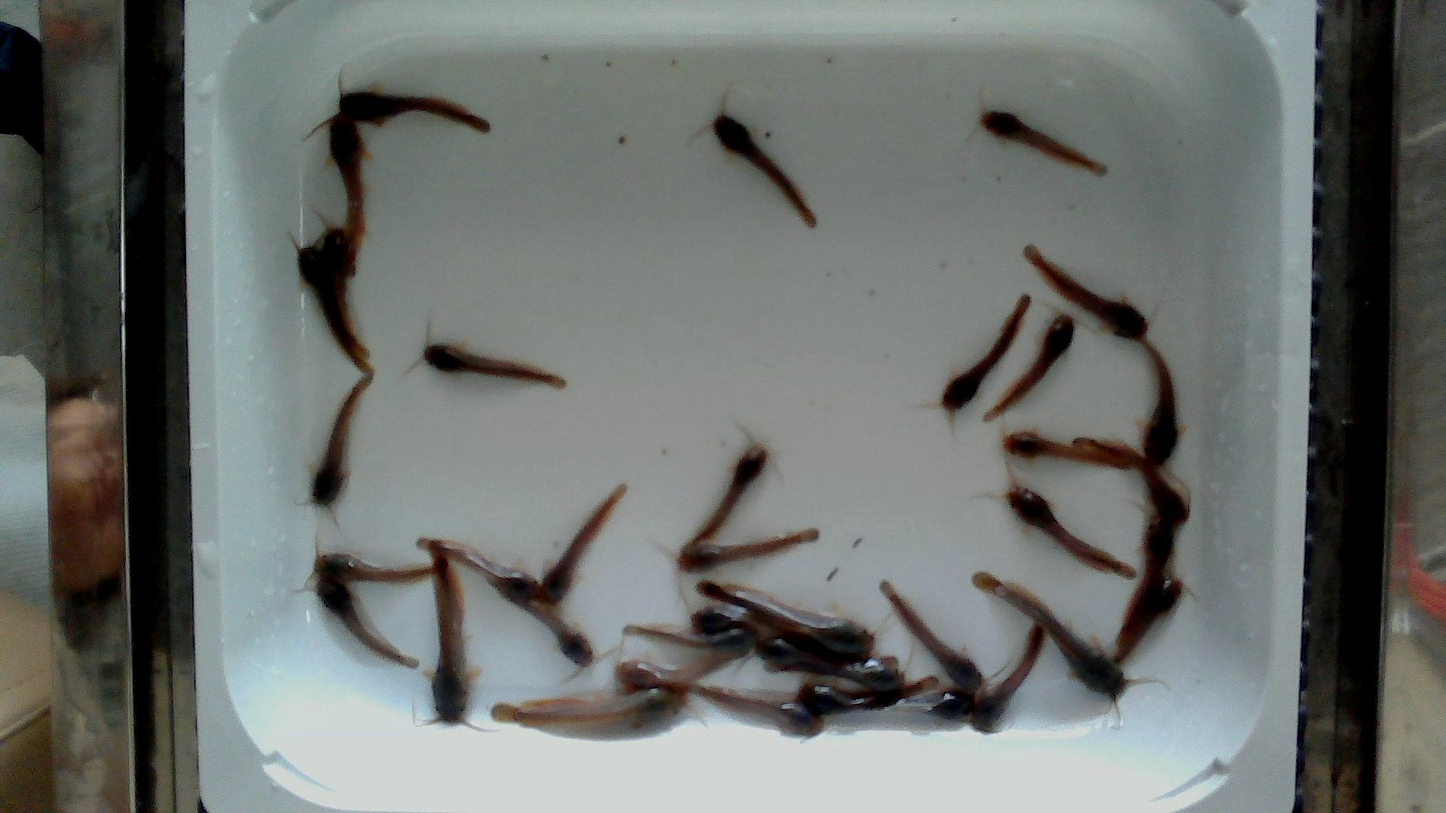lele: (972, 572, 1126, 696), (699, 581, 873, 659), (1022, 244, 1147, 340), (1008, 487, 1135, 579), (880, 581, 983, 694), (715, 116, 818, 226), (940, 293, 1030, 411), (544, 484, 629, 605), (1074, 437, 1187, 525), (982, 315, 1073, 422), (299, 249, 371, 377), (319, 580, 420, 668), (684, 446, 768, 547), (979, 112, 1108, 177), (311, 373, 374, 506), (492, 688, 680, 732), (418, 537, 542, 603), (973, 623, 1045, 732), (687, 682, 822, 736), (615, 647, 750, 698), (431, 540, 467, 722), (678, 528, 820, 574), (340, 91, 490, 133), (423, 344, 565, 388), (1110, 578, 1183, 663), (326, 111, 370, 249), (1123, 518, 1176, 631), (507, 598, 592, 667), (824, 693, 972, 731), (324, 230, 368, 357), (1003, 431, 1130, 470), (802, 677, 936, 713), (759, 636, 897, 670), (1139, 336, 1175, 465), (693, 603, 799, 645), (315, 553, 448, 585), (769, 662, 906, 689), (625, 624, 756, 649)
